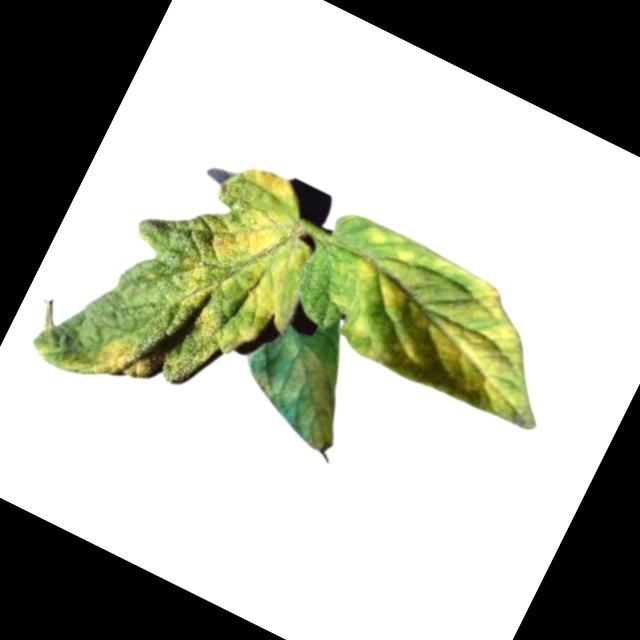Leaf_Mold: (311, 220, 586, 440), (153, 152, 346, 374), (259, 342, 366, 455), (65, 318, 163, 402)
